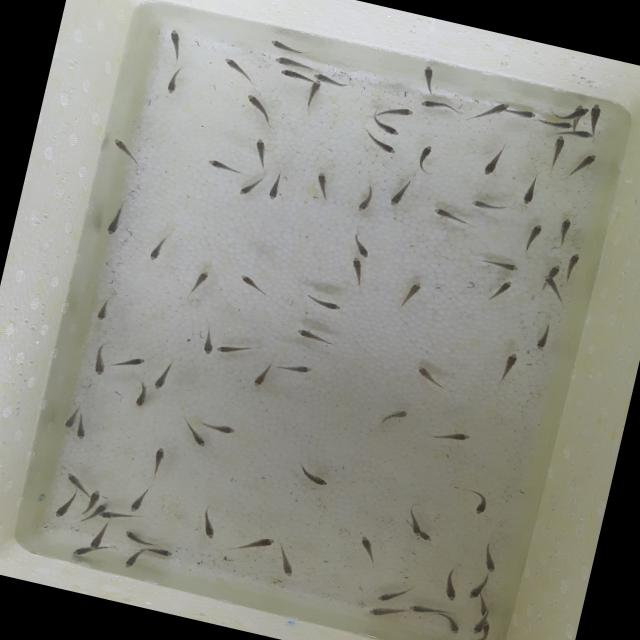fingerling: (229, 528, 277, 560), (108, 137, 151, 172), (476, 140, 509, 182), (192, 501, 224, 543), (214, 336, 262, 362), (218, 55, 260, 84), (100, 198, 130, 238), (394, 278, 426, 314), (431, 206, 476, 231), (428, 424, 473, 449), (474, 253, 522, 275), (240, 93, 277, 121), (410, 364, 448, 391), (160, 26, 190, 60), (106, 350, 148, 374), (374, 578, 410, 606), (363, 598, 403, 623), (438, 566, 464, 604), (390, 175, 418, 210), (354, 532, 381, 568), (184, 264, 214, 296), (271, 544, 301, 576), (294, 464, 332, 489), (538, 274, 570, 303), (244, 132, 272, 165), (530, 319, 556, 354), (483, 276, 513, 306), (345, 234, 377, 262), (143, 444, 171, 476), (292, 324, 332, 346), (272, 356, 316, 376), (152, 356, 175, 394), (409, 142, 438, 172), (342, 255, 370, 286), (480, 97, 512, 124), (118, 522, 154, 546), (520, 220, 546, 253), (495, 348, 520, 382), (374, 404, 408, 429), (127, 482, 152, 516), (272, 54, 314, 74), (204, 154, 242, 176), (234, 272, 268, 296), (466, 488, 493, 518), (96, 506, 136, 526), (264, 36, 306, 55), (410, 96, 454, 114), (516, 174, 540, 207), (89, 340, 110, 377), (352, 186, 375, 219), (545, 134, 567, 168), (475, 541, 499, 572), (378, 101, 415, 121), (416, 62, 439, 94), (238, 171, 264, 199), (371, 118, 404, 140), (250, 360, 274, 390), (364, 134, 398, 155), (129, 380, 151, 412), (182, 424, 210, 449), (86, 523, 109, 553), (470, 196, 508, 214), (302, 295, 342, 312), (92, 294, 116, 322), (584, 102, 606, 132), (164, 65, 184, 98), (146, 232, 166, 265), (202, 419, 236, 438), (409, 599, 443, 618), (552, 214, 575, 242), (574, 149, 596, 178), (52, 492, 74, 521), (196, 328, 218, 356), (564, 252, 584, 282), (78, 487, 102, 512), (278, 68, 314, 84), (63, 466, 87, 490), (510, 102, 540, 121), (314, 72, 349, 88), (466, 572, 486, 600), (306, 76, 324, 106), (310, 170, 330, 197), (266, 172, 284, 202), (61, 404, 80, 432), (406, 510, 424, 538), (72, 418, 91, 444), (568, 104, 591, 125), (142, 542, 172, 558), (473, 591, 492, 616), (67, 546, 96, 562), (122, 548, 142, 571), (468, 610, 487, 634), (439, 611, 460, 632), (544, 116, 572, 131), (476, 620, 497, 640), (570, 127, 598, 141), (92, 499, 110, 514), (416, 528, 432, 544), (548, 262, 565, 276)
